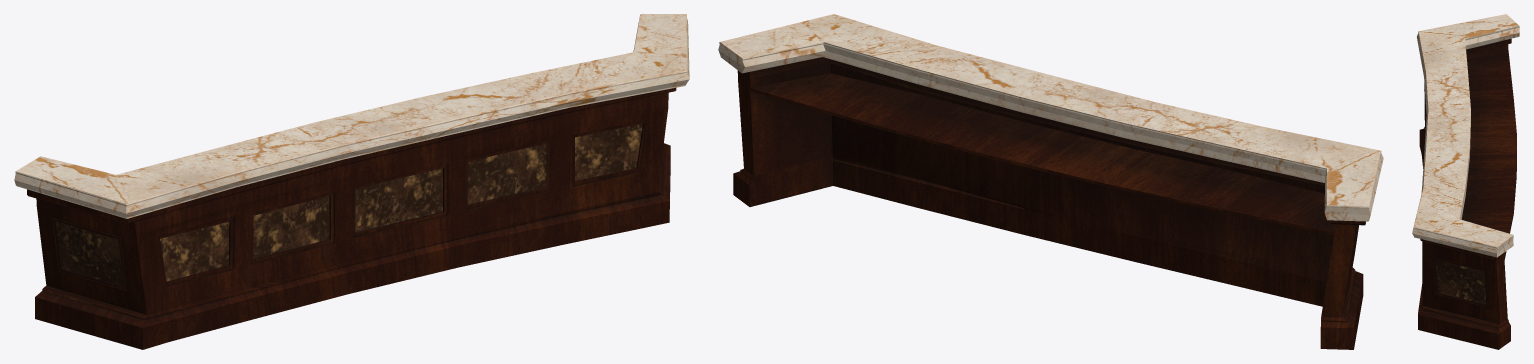
Rendered from TableReception02.fbx.
The picture shows the model from 3 angles, left to right: view 1: azimuth 30°, elevation 25°; view 2: azimuth 150°, elevation 25°; view 3: azimuth 270°, elevation 25°; orthographic projection. The views are drawn at different scales.
Visible parts, largest first — view 1: Table reception; view 2: Table reception; view 3: Table reception.
Boxes of the visible parts, x1,y1,x2,y2 form: Table reception: [14, 14, 689, 349]; Table reception: [718, 14, 1383, 349]; Table reception: [1412, 14, 1519, 349].
Bounding box in the file's own units: 6.05 × 1.3 × 1.18.
